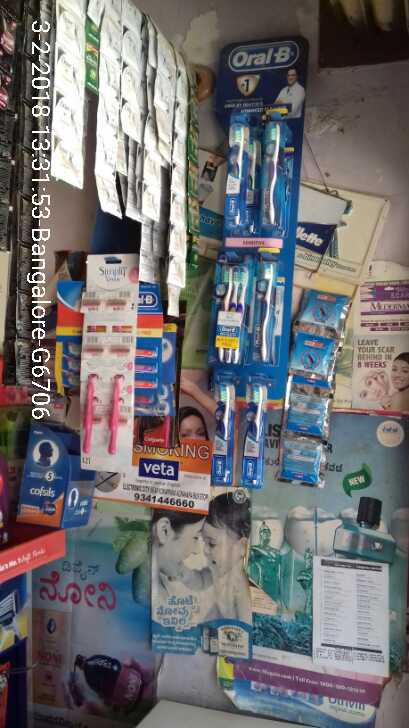pharmacy: (210, 261, 250, 365), (222, 114, 254, 236), (266, 118, 296, 230), (207, 383, 237, 490), (246, 384, 272, 495), (261, 259, 282, 369)
